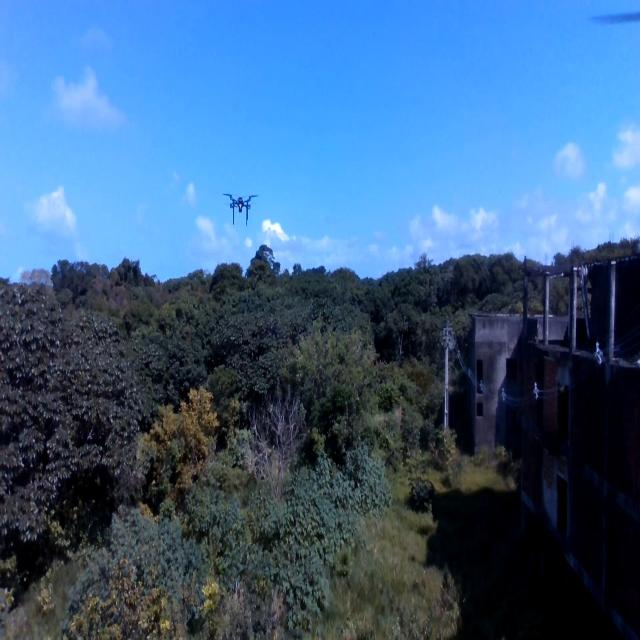-uav-: (218, 179, 262, 235)
